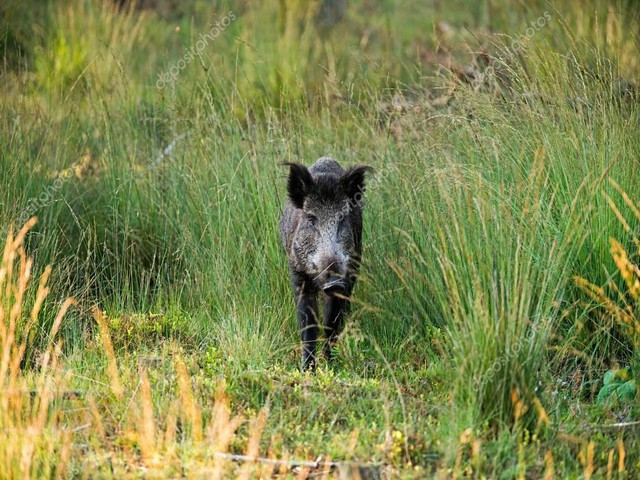Pig: (278, 154, 371, 375)
